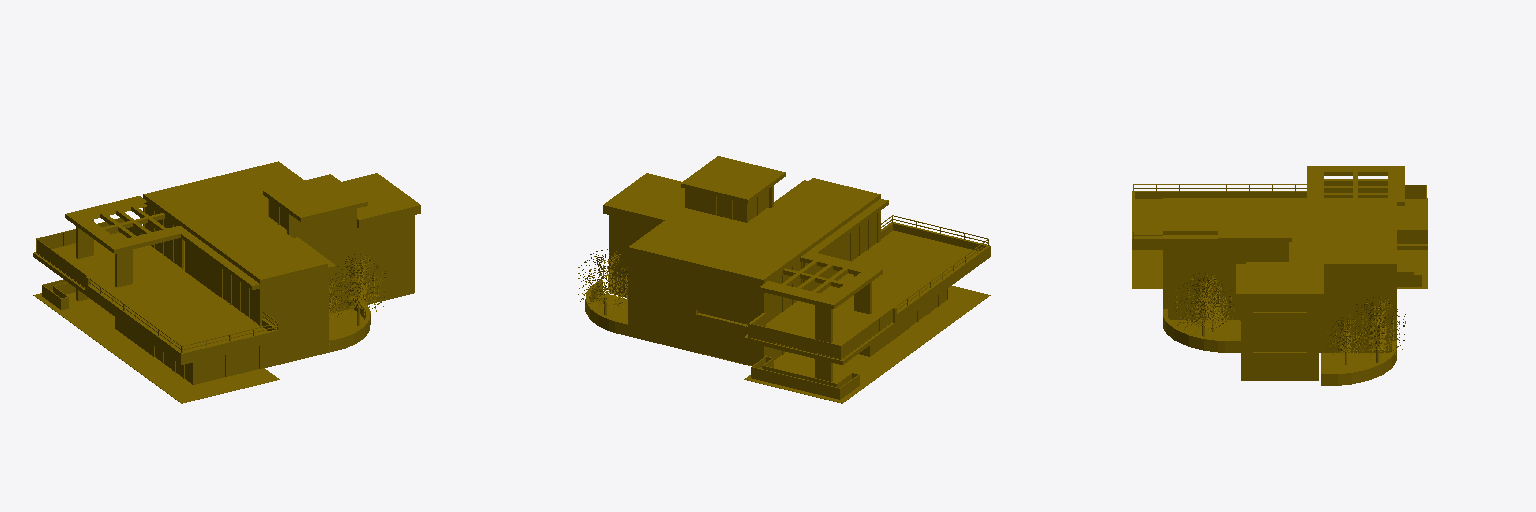
The model's file is Casa.obj.
3 renders of one model, left to right at view 1: azimuth 30°, elevation 25°; view 2: azimuth 150°, elevation 25°; view 3: azimuth 270°, elevation 25°, orthographic.
Visible parts, largest first — view 1: new_house; view 2: new_house; view 3: new_house.
Part boxes in pixels (x1,y1,x2,y2): new_house: (33, 161, 420, 403); new_house: (578, 156, 990, 403); new_house: (1132, 166, 1427, 385).
Size of the model in its own units: 326 by 120 by 282.